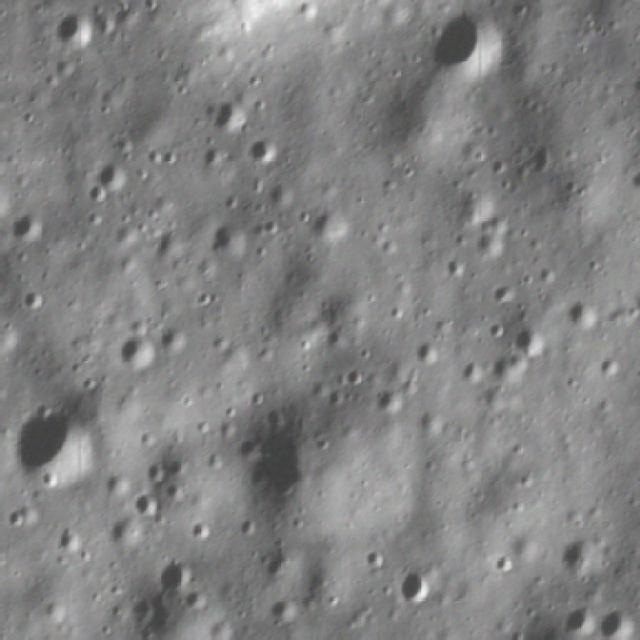crater: (15, 398, 101, 484), (418, 17, 512, 83), (50, 9, 95, 58), (210, 220, 258, 265), (9, 194, 46, 248), (508, 325, 555, 366), (389, 568, 437, 606), (92, 162, 131, 202), (121, 329, 164, 363), (248, 133, 286, 167)
